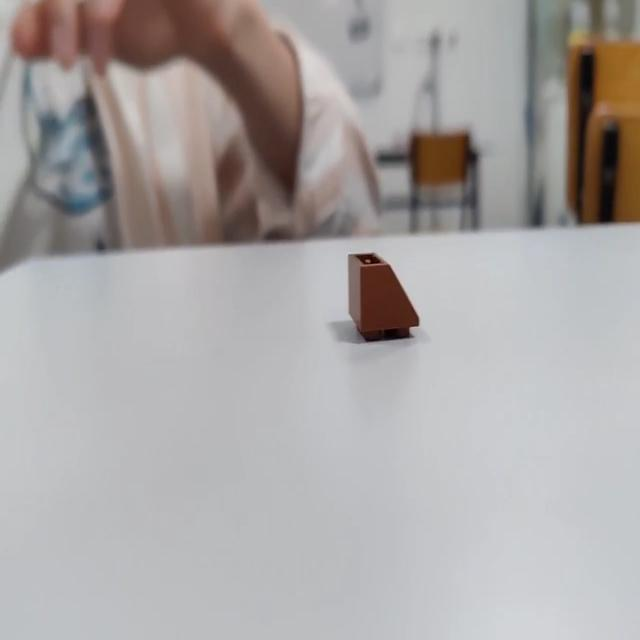X2x2x1: (346, 250, 419, 342)
